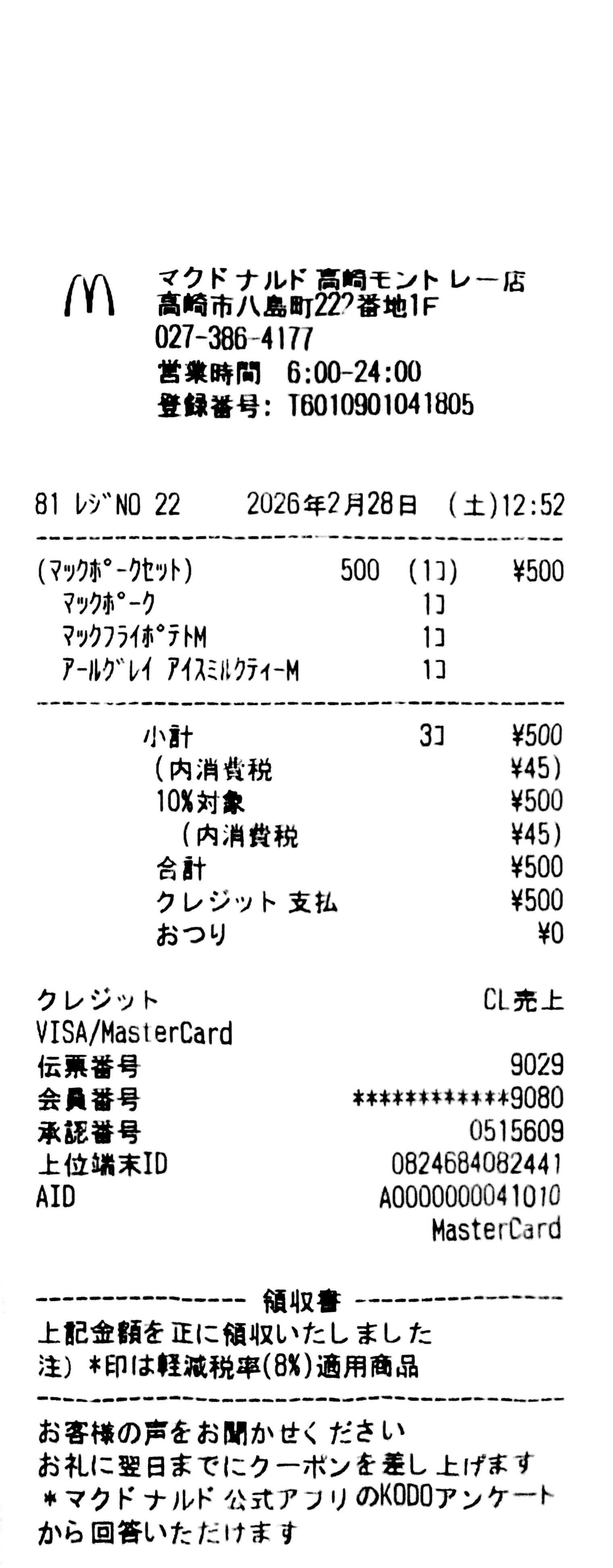Date: (247, 491, 417, 517)
Pay: (156, 854, 563, 880)
Shopname: (157, 267, 308, 291)
Telnum: (154, 323, 314, 352)
